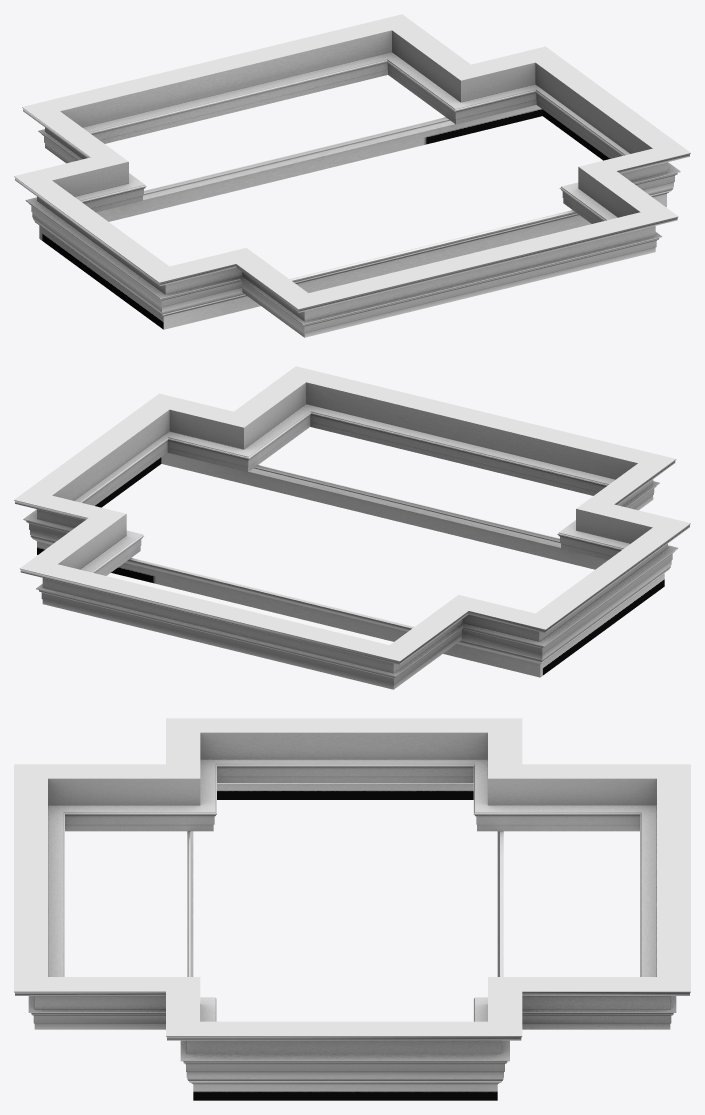
Rendered from propylon-architrave.glb.
3 views of the same model, one above another, from view 1: azimuth 30°, elevation 25°; view 2: azimuth 150°, elevation 25°; view 3: azimuth 270°, elevation 25° (orthographic). The views are drawn at different scales.
Visible parts, largest first — view 1: row2; view 2: row2; view 3: row2.
Part boxes in pixels (box(x1,y1,x2,y2)): row2: box(14, 14, 690, 337); row2: box(14, 366, 690, 689); row2: box(14, 718, 690, 1100).
Size of the model in its own units: 16.69 by 1.77 by 15.03.
1 material, 1 textured.
